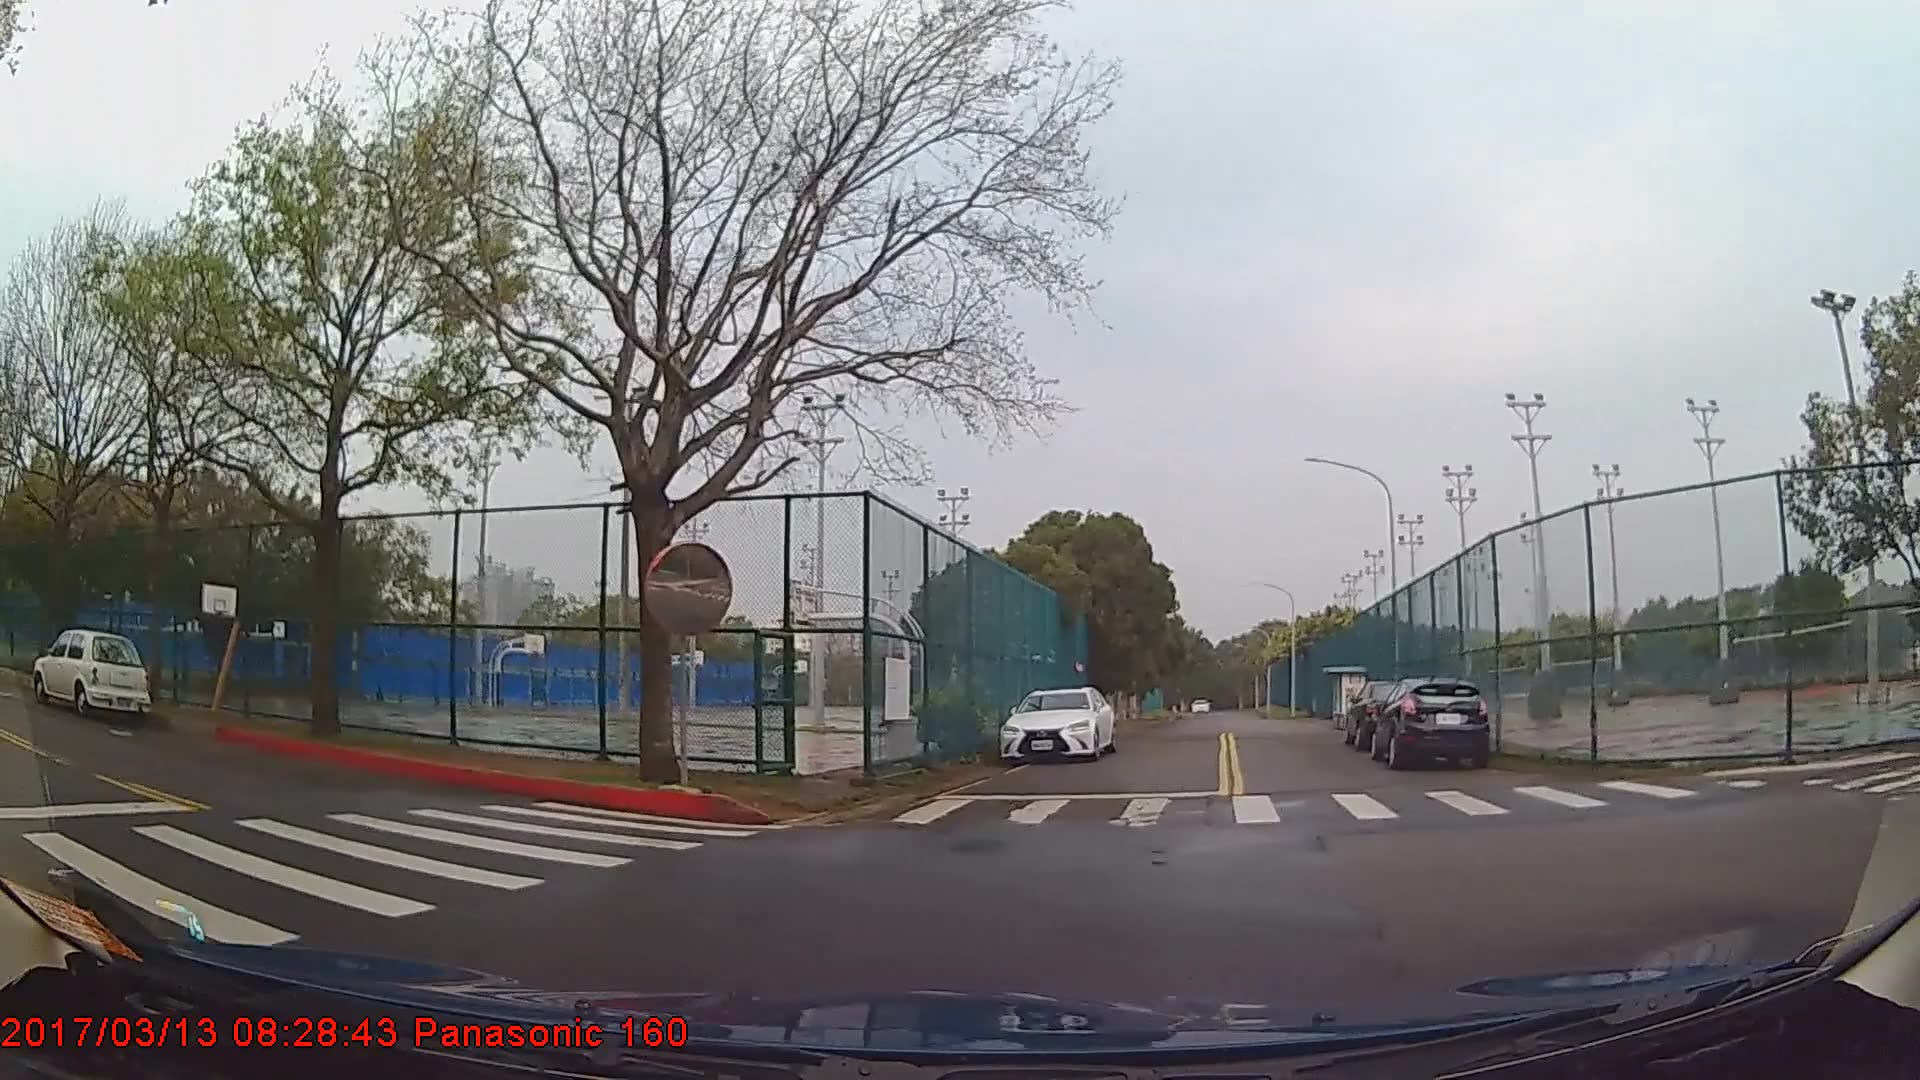vehicle: (29, 625, 156, 717), (1371, 676, 1493, 767), (1002, 686, 1113, 764)
